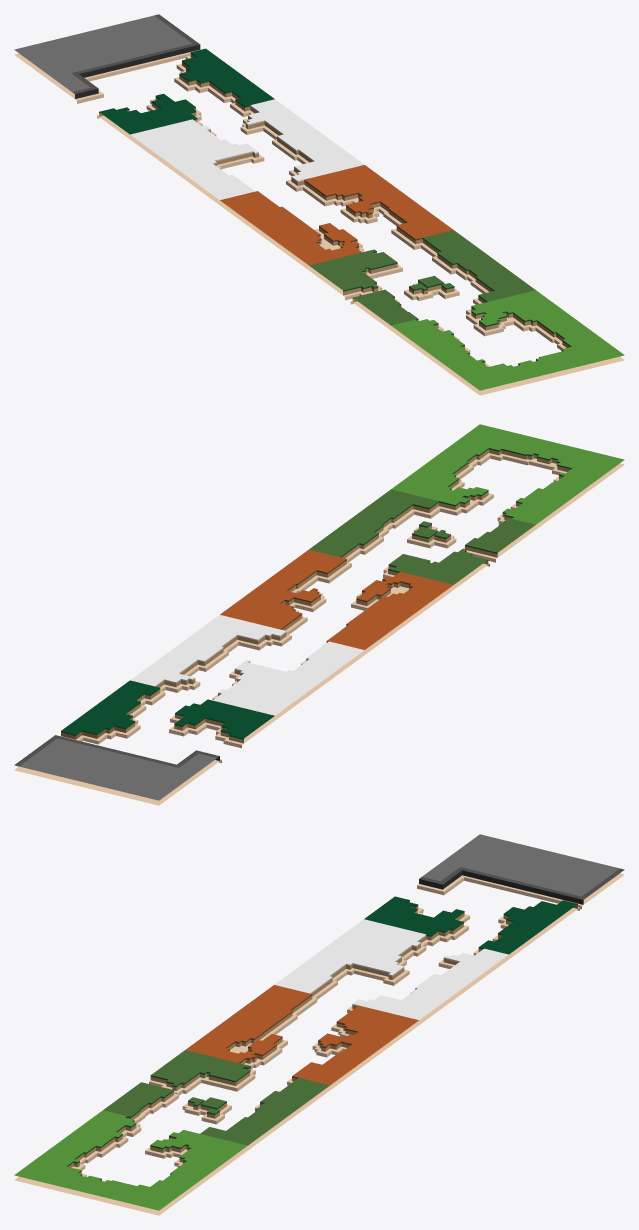
Rendered from SM_Env_Tiles.fbx.
3 views of the same model, one above another, from view 1: azimuth 30°, elevation 25°; view 2: azimuth 150°, elevation 25°; view 3: azimuth 330°, elevation 25° (orthographic).
Parts seen in each view (by area): view 1: SM_Env_Tile_05, SM_Env_Tile_Underwater, SM_Env_Tile_04, SM_Env_Tile_03, SM_Env_Tile_01, SM_Env_Tile_02; view 2: SM_Env_Tile_05, SM_Env_Tile_Underwater, SM_Env_Tile_01, SM_Env_Tile_04, SM_Env_Tile_03, SM_Env_Tile_02; view 3: SM_Env_Tile_05, SM_Env_Tile_Underwater, SM_Env_Tile_04, SM_Env_Tile_01, SM_Env_Tile_03, SM_Env_Tile_02.
Boxes of the visible parts, x1,y1,x2,y2 form: SM_Env_Tile_05: (14,14,274,134); SM_Env_Tile_Underwater: (14,49,624,395); SM_Env_Tile_04: (130,99,364,199); SM_Env_Tile_03: (220,165,453,265); SM_Env_Tile_01: (391,290,624,390); SM_Env_Tile_02: (309,230,535,325); SM_Env_Tile_05: (14,680,274,800); SM_Env_Tile_Underwater: (14,453,624,805); SM_Env_Tile_01: (391,424,624,524); SM_Env_Tile_04: (130,615,364,715); SM_Env_Tile_03: (220,549,453,649); SM_Env_Tile_02: (309,489,535,584); SM_Env_Tile_05: (364,834,624,954); SM_Env_Tile_Underwater: (14,873,624,1215); SM_Env_Tile_04: (274,919,508,1019); SM_Env_Tile_01: (14,1110,247,1210); SM_Env_Tile_03: (185,985,418,1085); SM_Env_Tile_02: (103,1050,329,1145).
Size of the model in its own units: 87.59 by 487 by 4.89.
